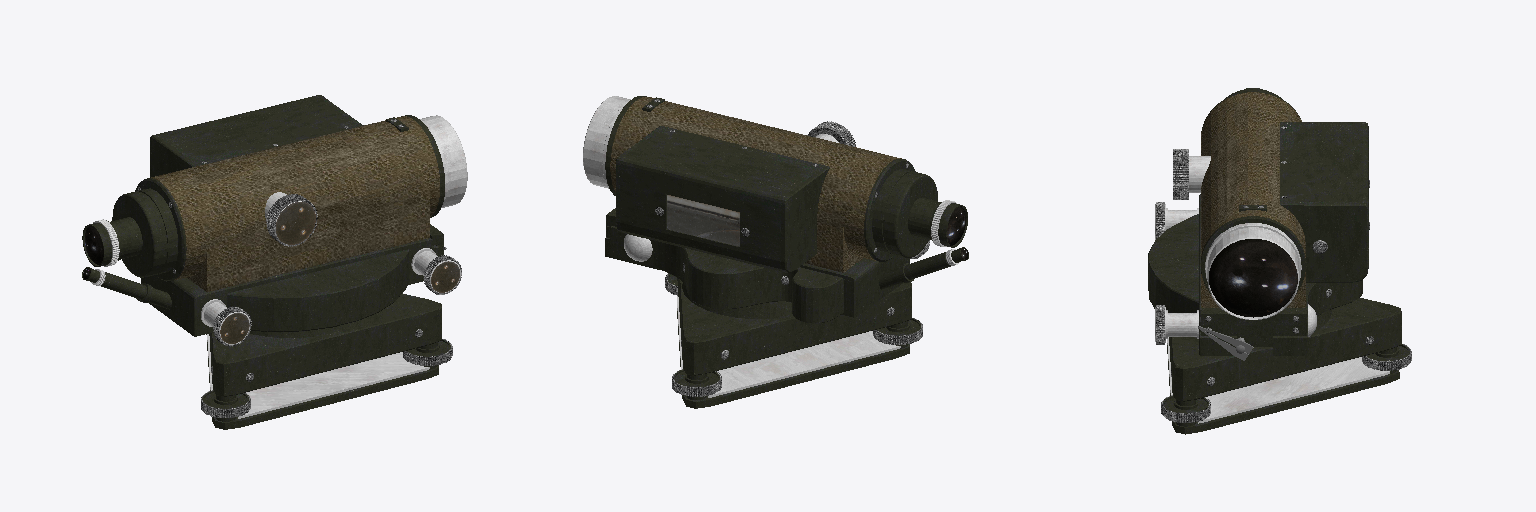
3 renders of one model, left to right at view 1: azimuth 30°, elevation 25°; view 2: azimuth 150°, elevation 25°; view 3: azimuth 270°, elevation 25°, orthographic.
Parts seen in each view (by area): view 1: Star006; view 2: Star006; view 3: Star006.
Part boxes in pixels (bbox=[...]): Star006: bbox=[82, 95, 467, 429]; Star006: bbox=[583, 96, 968, 408]; Star006: bbox=[1148, 88, 1411, 434].
Size of the model in its own units: 123 by 70.97 by 75.41.
Materials: 9 (5 with a texture image).